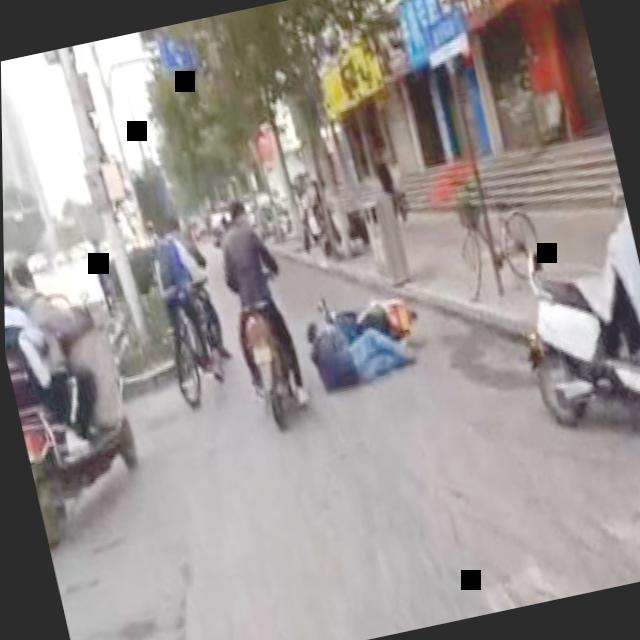Fall-Detected: (286, 268, 425, 398)
